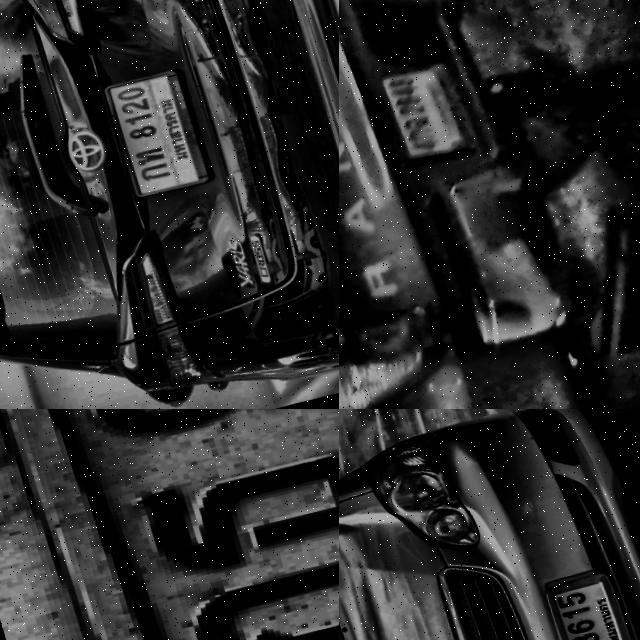license-plate: (0, 409, 339, 640), (89, 65, 211, 202), (362, 53, 474, 176), (534, 570, 639, 640)
